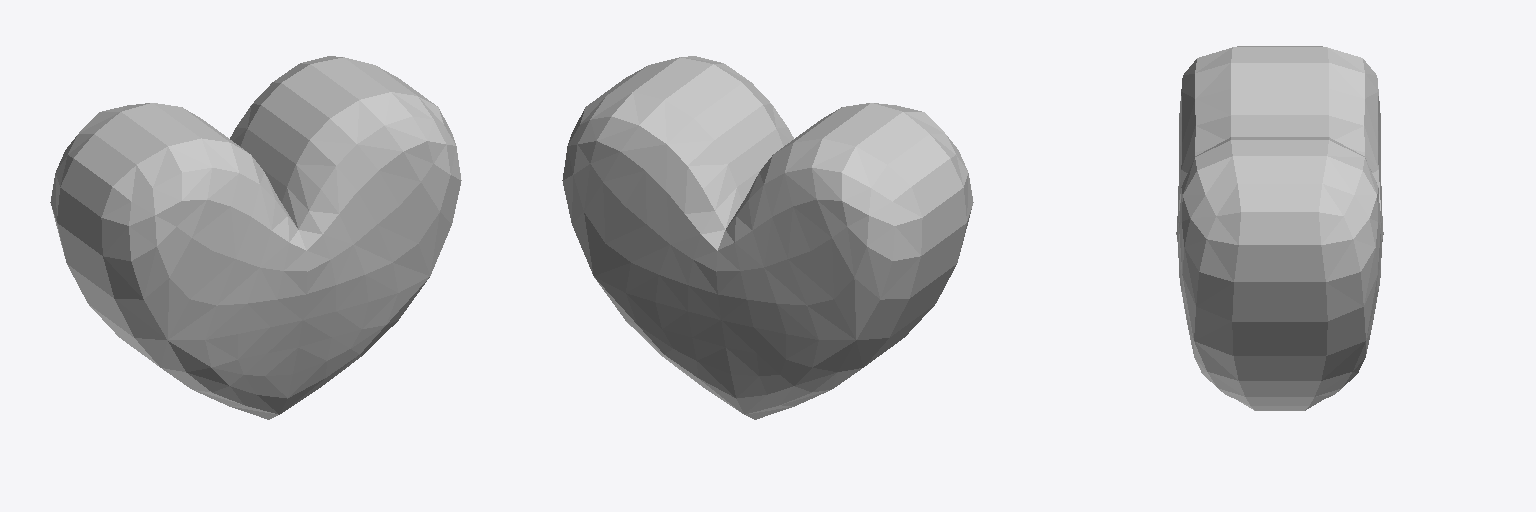
Rendered from heart.obj.
3 views of the same model, side by side, from view 1: azimuth 30°, elevation 25°; view 2: azimuth 150°, elevation 25°; view 3: azimuth 270°, elevation 25° (orthographic).
Parts seen in each view (by area): view 1: heart; view 2: heart; view 3: heart.
Part boxes in pixels (x1,y1,x2,y2): heart: (50, 56, 461, 419); heart: (562, 56, 973, 419); heart: (1176, 46, 1383, 410).
Size of the model in its own units: 0.592 by 0.4968 by 0.3016.